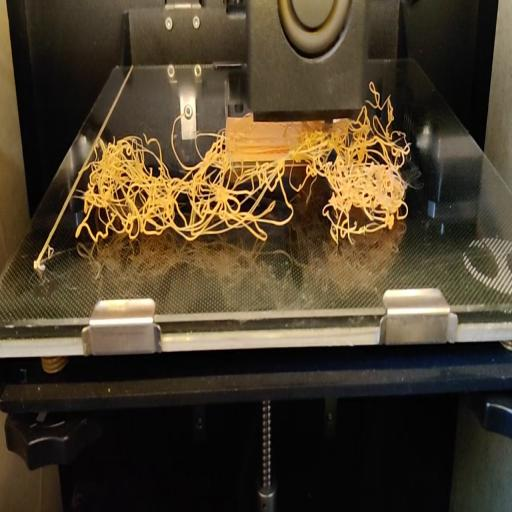spaghetti: (68, 116, 412, 247), (366, 76, 398, 117)
